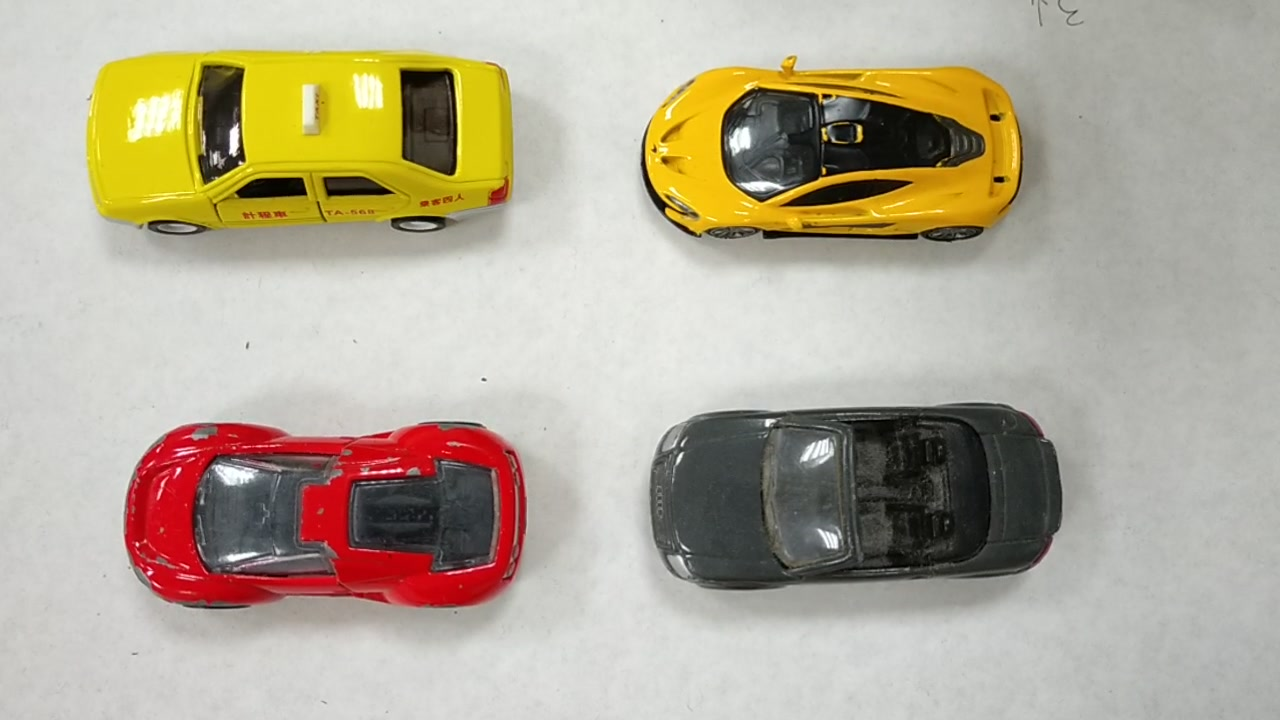car: (648, 405, 1057, 587), (122, 429, 528, 607), (638, 74, 1035, 252), (84, 58, 514, 219)
